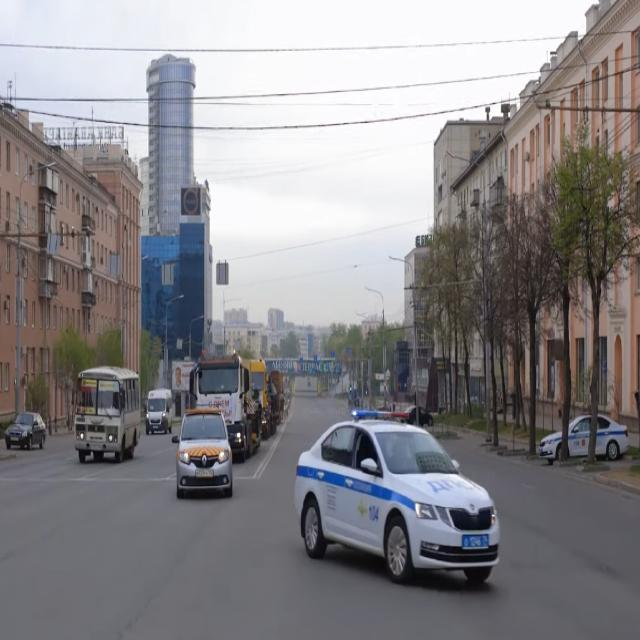non emergency car: (192, 359, 262, 464), (75, 367, 142, 465), (176, 409, 234, 500), (6, 411, 48, 451), (147, 388, 172, 435), (402, 404, 435, 429)
police car: (295, 407, 501, 589), (540, 414, 631, 466)
